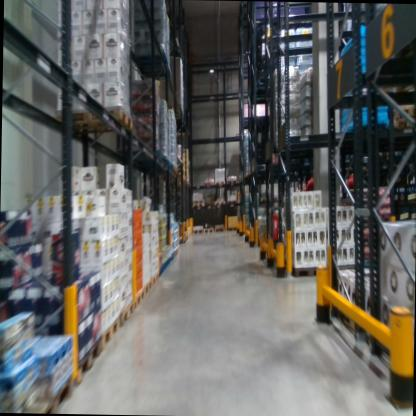pallet: (53, 101, 136, 131), (16, 374, 74, 412), (71, 335, 103, 389), (99, 314, 120, 347), (117, 294, 135, 327), (390, 102, 415, 122), (131, 286, 146, 308), (394, 117, 416, 130), (149, 271, 160, 288), (141, 278, 152, 293), (213, 225, 225, 234), (213, 178, 226, 186), (191, 227, 203, 235), (191, 198, 204, 205), (226, 199, 237, 206), (214, 200, 224, 207), (203, 227, 214, 233), (191, 203, 203, 208), (203, 202, 215, 207), (226, 179, 238, 184)
